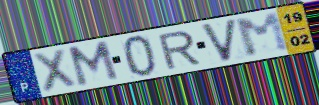0: (121, 34, 159, 78)
M: (232, 10, 294, 59), (65, 39, 122, 90)
R: (156, 29, 203, 72)
V: (198, 17, 239, 64)
X: (30, 46, 79, 94)
